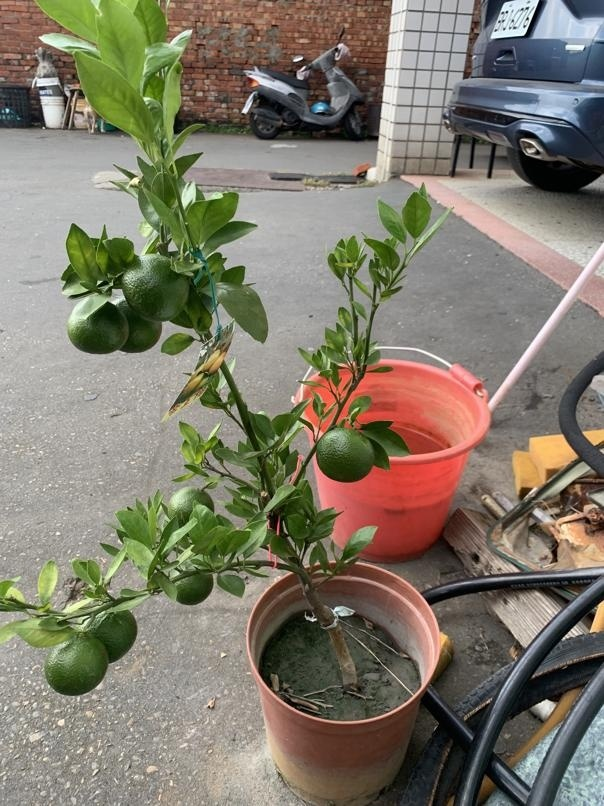Tangerine: (123, 252, 191, 321), (44, 634, 109, 696), (70, 296, 128, 357), (315, 427, 375, 483)
